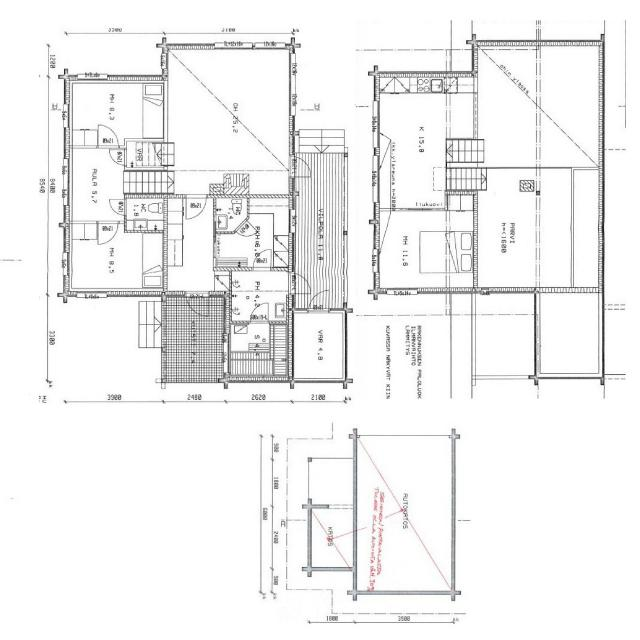door: (187, 292, 208, 320), (235, 219, 258, 243), (288, 156, 314, 177), (288, 273, 314, 294), (186, 194, 207, 220), (309, 288, 329, 313), (98, 220, 118, 243), (98, 125, 118, 148), (253, 249, 271, 271), (250, 302, 268, 324), (109, 199, 126, 215), (109, 150, 127, 165)
